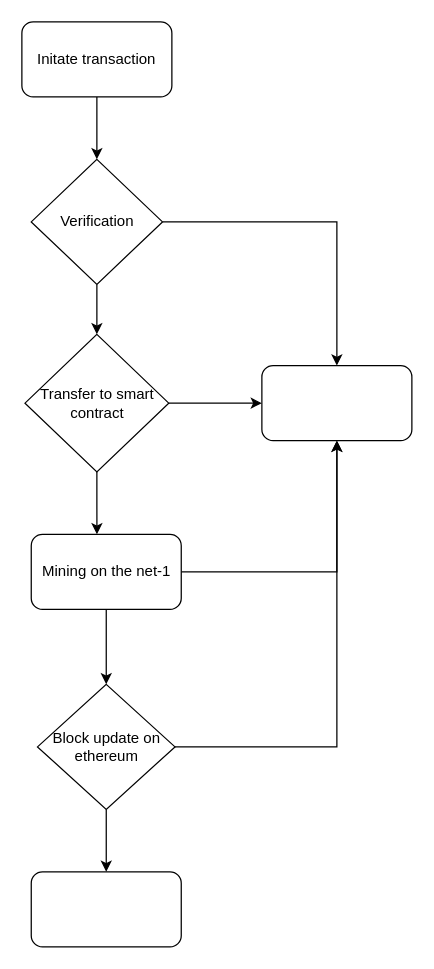
Image size: 434x969. Some labels were removed from this diagram. The shapes that lost their labels are listed below. From the top down, each one's centre as x and y in pixels, then its label:
point 336,402: Terminate transaction
point 105,909: Transaction updated and completed
